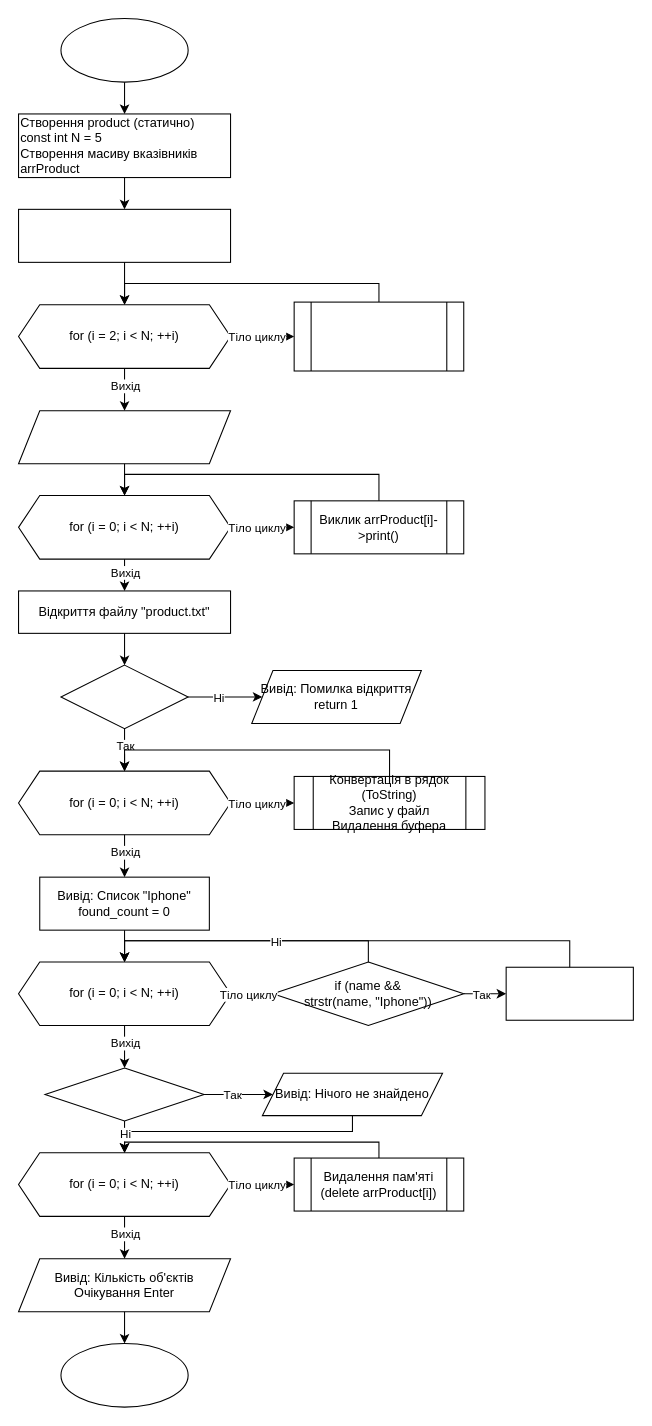
This 652x1426 diagram has some shape labels left out. Here are the shapes that lost their labels. From the top down, the box of each, then its label:
(60, 17, 188, 82): Початок
(17, 208, 231, 262): Ручне виділення пам'яті для arrProduct[0] та arrProduct[1]
(293, 301, 464, 371): Вивід: "Enter info" Створення new Product Виклик input()
(17, 410, 231, 464): Вивід: Інформація про продукти Вивід: Product::getCount()
(60, 664, 188, 729): if (fout.is_open())
(505, 966, 633, 1020): Виклик print() ++found_count
(44, 1067, 204, 1121): if (found_count == 0)
(60, 1342, 188, 1407): Кінець
